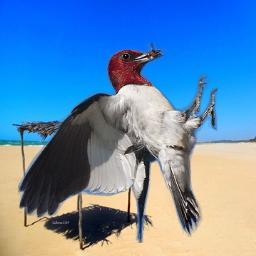Woodpecker: (18, 43, 218, 243)
